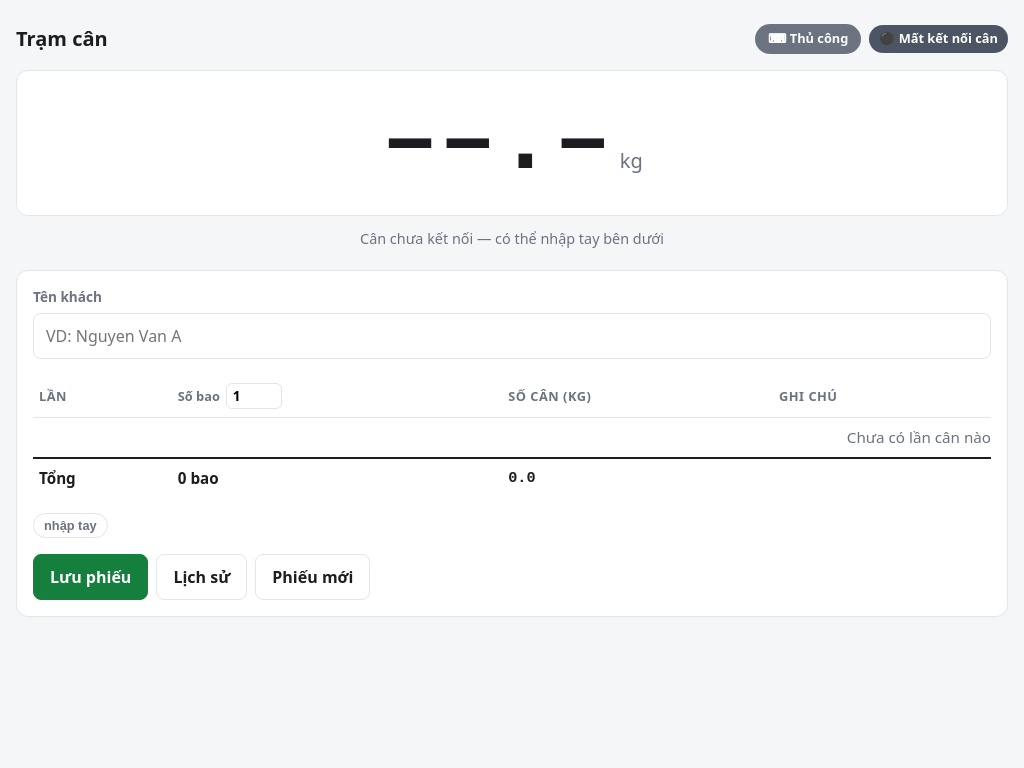
WeighScreen › báo lỗi khi lưu phiếu chưa có lần cân nào
The width and height of the screenshot is (1024, 768).
Click the button "Lưu phiếu". click: (91, 577)
box: x1=33 y1=554 x2=148 y2=600
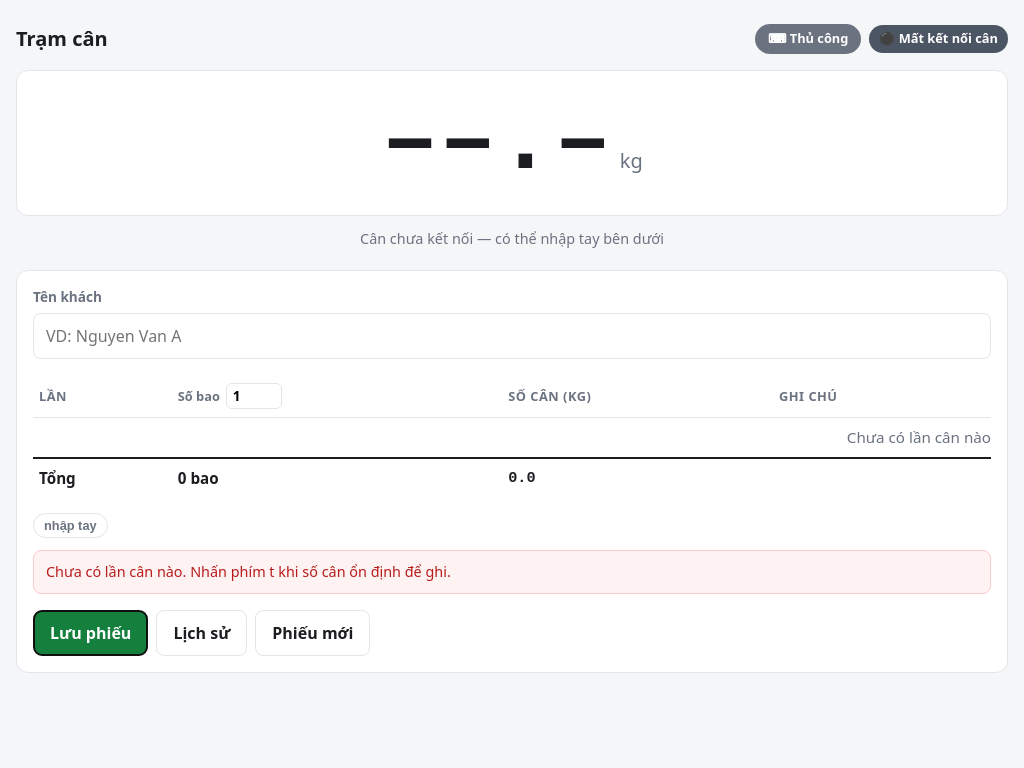
expect the text "Chưa có lần cân nào. Nhấn phím t khi số cân ổn định để ghi." is shown: met, box x1=33 y1=550 x2=991 y2=594
